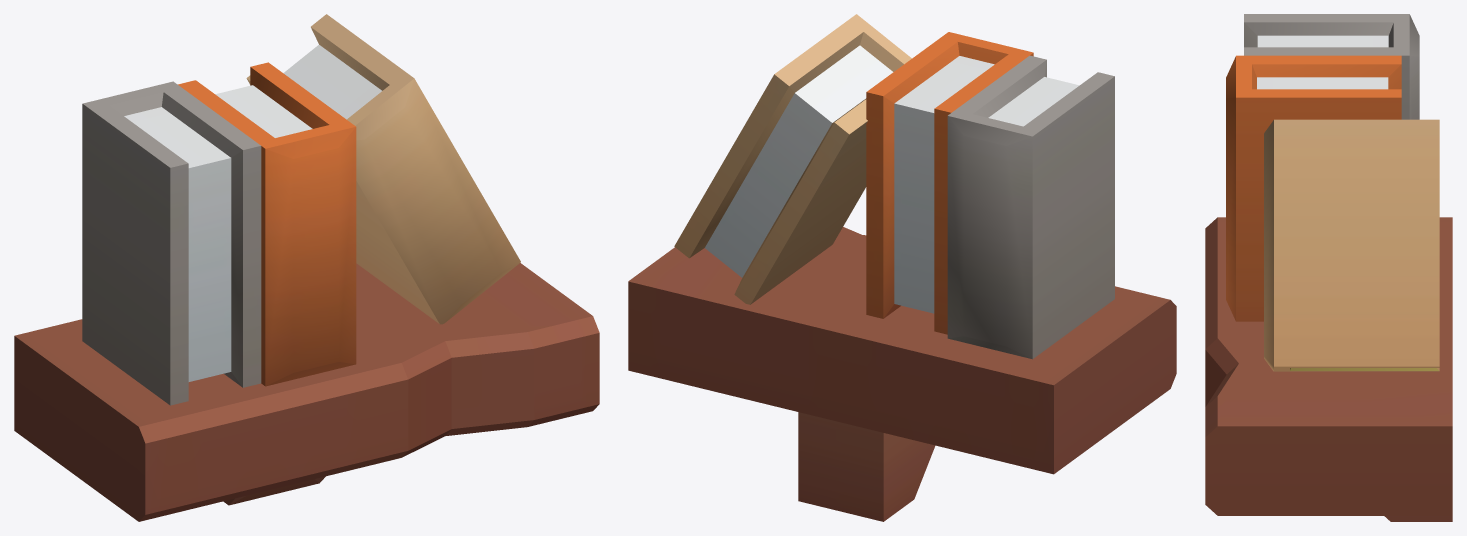
File: shelf_small_books.glb
The picture shows the model from 3 angles, left to right: view 1: azimuth 30°, elevation 25°; view 2: azimuth 150°, elevation 25°; view 3: azimuth 270°, elevation 25°; orthographic projection. The views are drawn at different scales.
Parts seen in each view (by area): view 1: shelf_small_books; view 2: shelf_small_books; view 3: shelf_small_books.
Part boxes in pixels (bbox=[...]): shelf_small_books: bbox=[14, 14, 599, 521]; shelf_small_books: bbox=[628, 14, 1176, 521]; shelf_small_books: bbox=[1205, 14, 1452, 521].
Size of the model in its own units: 1 by 0.9308 by 0.5001.
Materials: 1 (1 with a texture image).
